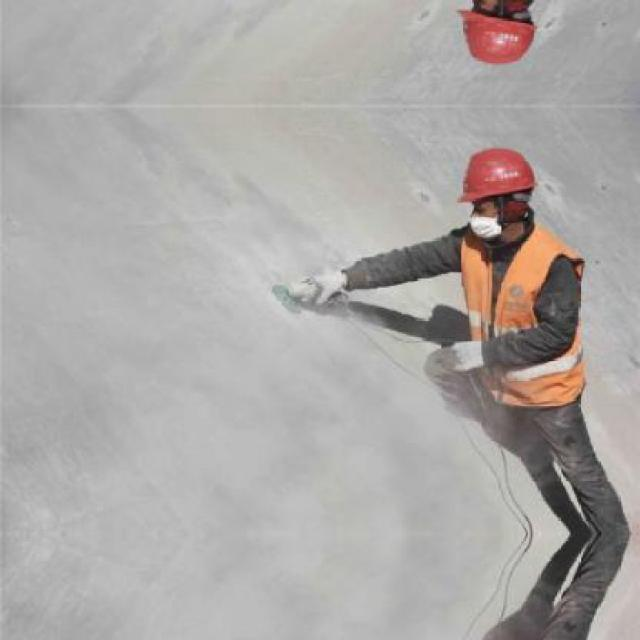person_with_helmet: (454, 158, 549, 211)
person_with_vest: (453, 231, 605, 430)
